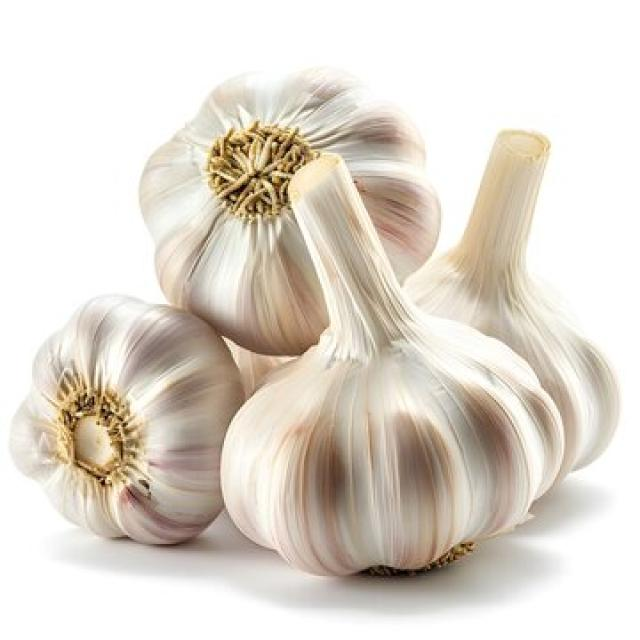Garlic: (219, 149, 565, 578), (137, 64, 441, 357), (398, 126, 620, 500), (7, 292, 245, 546)
